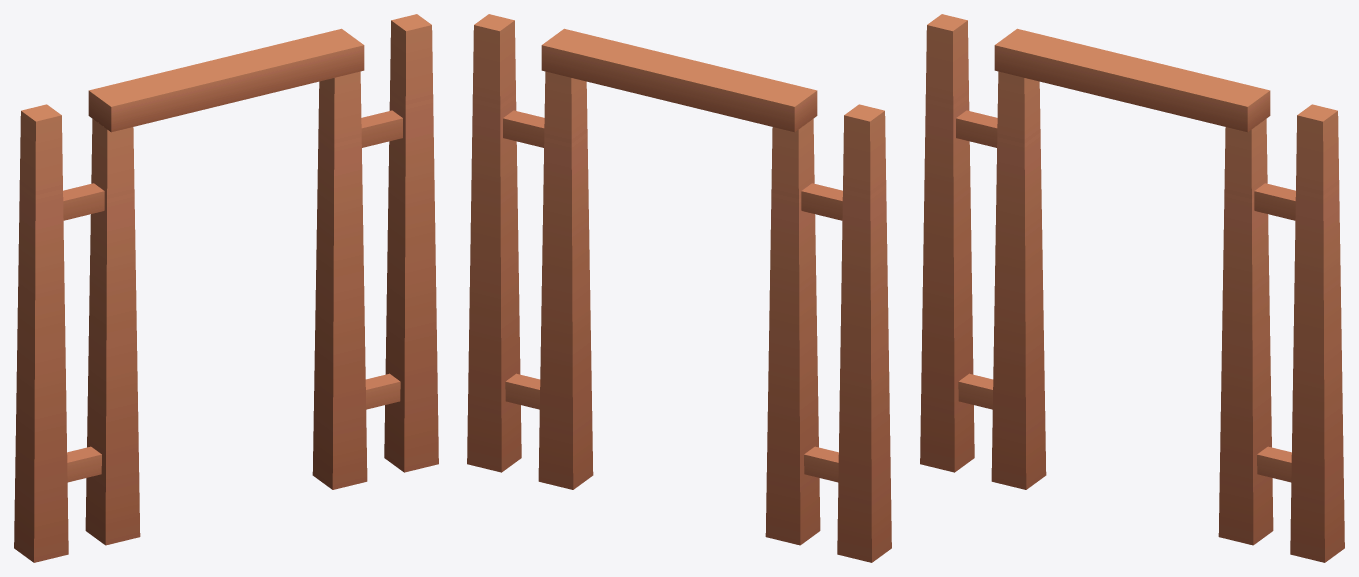
Rendered from fence-doorway.glb.
The picture shows the model from 3 angles, left to right: view 1: azimuth 30°, elevation 25°; view 2: azimuth 150°, elevation 25°; view 3: azimuth 330°, elevation 25°; orthographic projection.
Visible parts, largest first — view 1: fence-doorway, Group; view 2: fence-doorway, Group; view 3: fence-doorway, Group.
Part boxes in pixels (<box>): fence-doorway: <box>14,14,438,562</box>; Group: <box>88,28,364,132</box>; fence-doorway: <box>467,14,891,562</box>; Group: <box>541,28,817,132</box>; fence-doorway: <box>920,14,1344,562</box>; Group: <box>994,28,1270,132</box>.
Bounding box in the file's own units: 0.5 × 0.5175 × 0.0481.
1 material, 1 textured.
